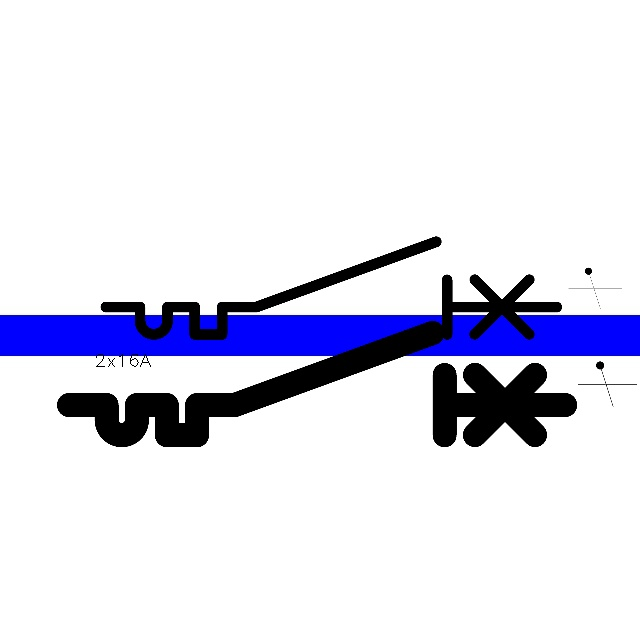interruptor_termomagnetico: (56, 320, 577, 448), (94, 230, 568, 346)
